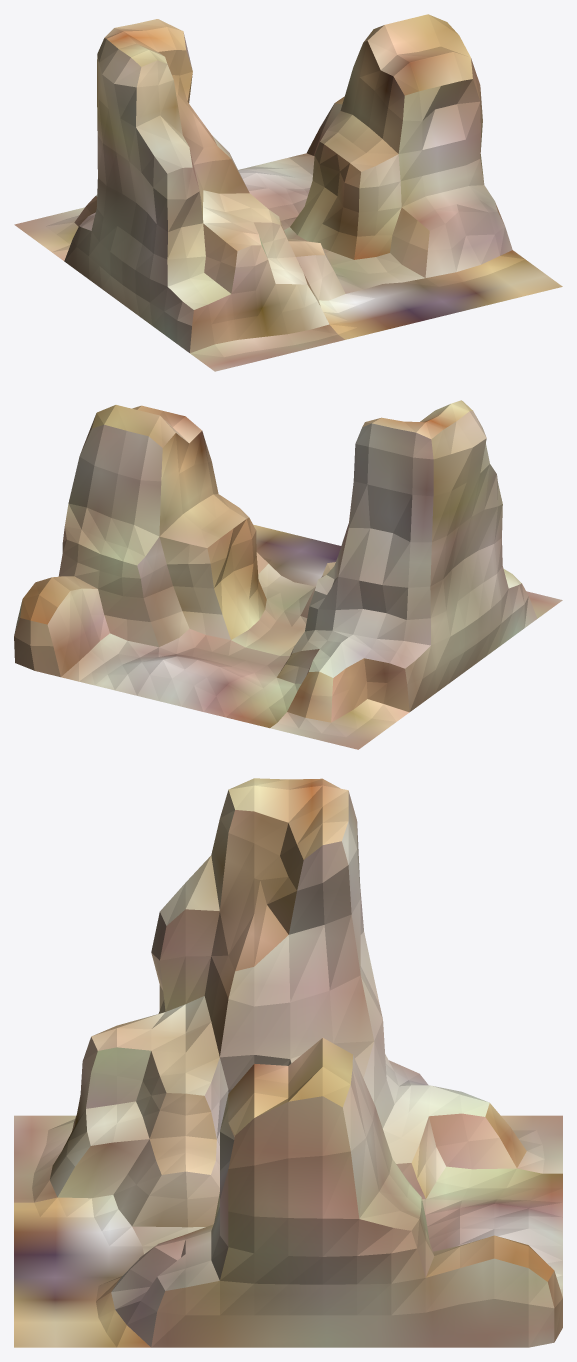
File: Mountain_desert_004.obj
3 views of the same model, one above another, from view 1: azimuth 30°, elevation 25°; view 2: azimuth 150°, elevation 25°; view 3: azimuth 270°, elevation 25° (orthographic). The views are drawn at different scales.
Parts seen in each view (by area): view 1: Mountain_desert_004; view 2: Mountain_desert_004; view 3: Mountain_desert_004.
Boxes of the visible parts, box(x1,y1,x2,y2) form: Mountain_desert_004: box(14, 14, 562, 371); Mountain_desert_004: box(14, 400, 562, 749); Mountain_desert_004: box(14, 778, 562, 1347).
Bounding box in the file's own units: 2490 × 1593 × 2300.
1 material, 1 textured.
